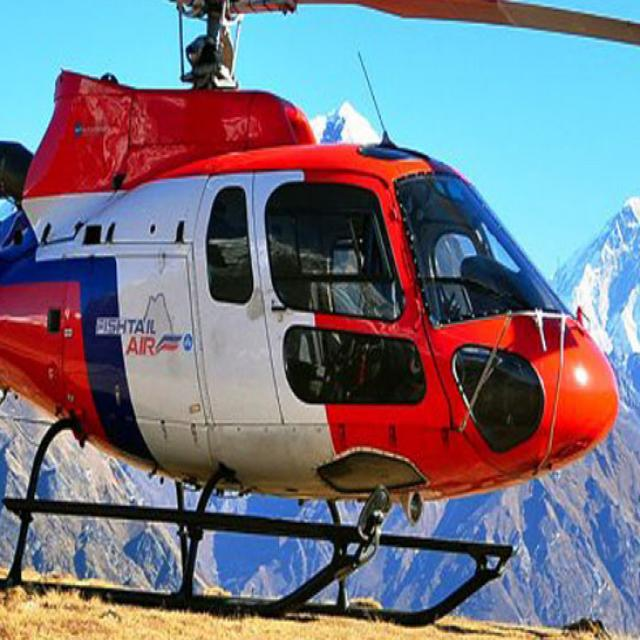helicopter: (1, 1, 625, 634)
